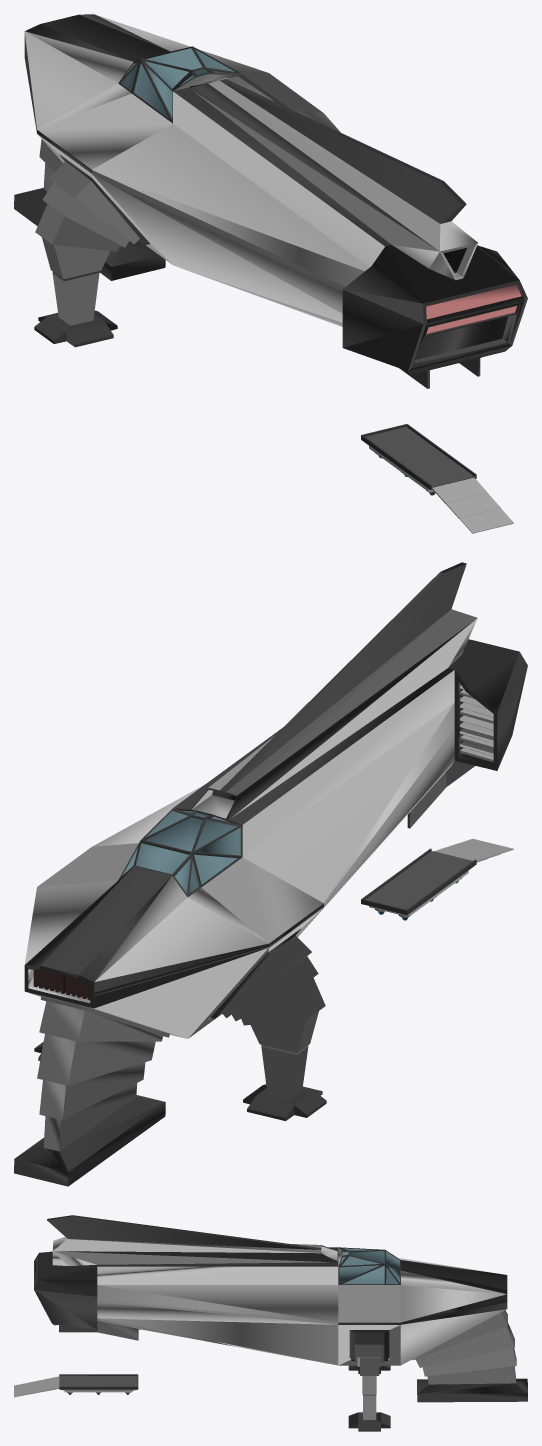
Rendered from Voertuig_spaceship_project-vrij.fbx.
The picture shows the model from 3 angles, top to bottom: view 1: azimuth 30°, elevation 25°; view 2: azimuth 150°, elevation 25°; view 3: azimuth 270°, elevation 25°; orthographic projection. The views are drawn at different scales.
Parts seen in each view (by area): view 1: Schip, Platform_1; view 2: Schip, Platform_1; view 3: Schip, Platform_1.
Part boxes in pixels (box(x1,y1,x2,y2)): Schip: box(14, 14, 527, 388); Platform_1: box(361, 424, 513, 533); Schip: box(14, 562, 527, 1186); Platform_1: box(361, 838, 513, 920); Schip: box(34, 1215, 527, 1431); Platform_1: box(14, 1374, 138, 1397).
Size of the model in its own units: 3538 by 3895 by 10129.
Materials: 1 (1 with a texture image).
